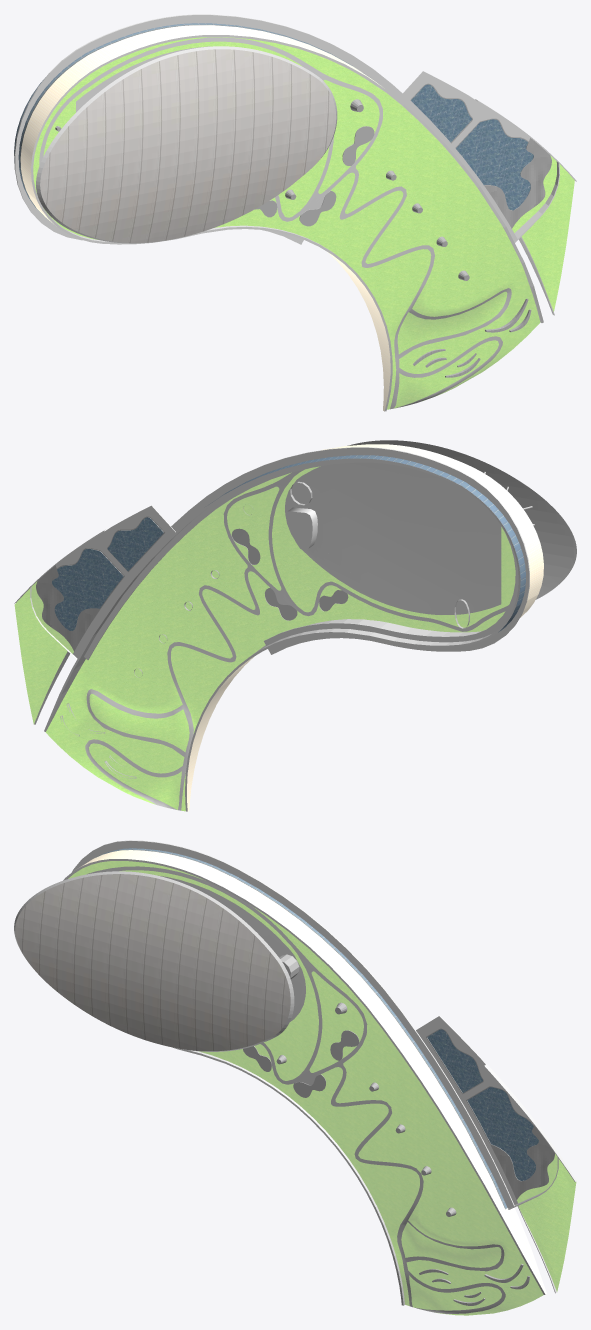
3 renders of one model, top to bottom at view 1: azimuth 30°, elevation 25°; view 2: azimuth 150°, elevation 25°; view 3: azimuth 330°, elevation 25°, orthographic. The views are drawn at different scales.
Parts seen in each view (by area): view 1: 体育馆2简化4, 体育馆2顶棚, 体育馆2墙体, 体育馆2简化3, 体育馆2侧面条, 体育馆2简化1, 体育馆2简化2, 体育馆2顶部零件3, 体育馆2顶部零件2; view 2: 体育馆2简化4, 体育馆2墙体, 体育馆2简化3, 体育馆2侧面条, 体育馆2顶棚, 体育馆2简化1, 体育馆2简化2; view 3: 体育馆2简化4, 体育馆2顶棚, 体育馆2墙体, 体育馆2简化3, 体育馆2侧面条, 体育馆2简化1, 体育馆2简化2, 体育馆2顶部零件3.
Boxes of the visible parts, <box> form: 体育馆2简化4: <box>33,37,540,409</box>; 体育馆2顶棚: <box>36,46,337,243</box>; 体育馆2墙体: <box>14,23,543,411</box>; 体育馆2简化3: <box>403,71,556,232</box>; 体育馆2侧面条: <box>14,14,517,244</box>; 体育馆2简化1: <box>521,164,574,311</box>; 体育馆2简化2: <box>475,99,576,315</box>; 体育馆2顶部零件3: <box>413,298,531,377</box>; 体育馆2顶部零件2: <box>285,99,469,280</box>; 体育馆2简化4: <box>45,462,515,811</box>; 体育馆2墙体: <box>44,444,543,811</box>; 体育馆2简化3: <box>31,505,175,658</box>; 体育馆2侧面条: <box>84,447,529,659</box>; 体育馆2顶棚: <box>347,440,576,599</box>; 体育馆2简化1: <box>14,588,67,724</box>; 体育馆2简化2: <box>14,529,106,724</box>; 体育馆2简化4: <box>68,861,543,1315</box>; 体育馆2顶棚: <box>14,871,294,1051</box>; 体育馆2墙体: <box>63,848,546,1305</box>; 体育馆2简化3: <box>416,1016,557,1204</box>; 体育馆2侧面条: <box>72,840,514,1208</box>; 体育馆2简化1: <box>518,1159,576,1291</box>; 体育馆2简化2: <box>484,1064,576,1293</box>; 体育馆2顶部零件3: <box>419,1264,529,1305</box>.
Bounding box in the file's own units: 227 × 169 × 29.52.
Materials: 9 (6 with a texture image).
